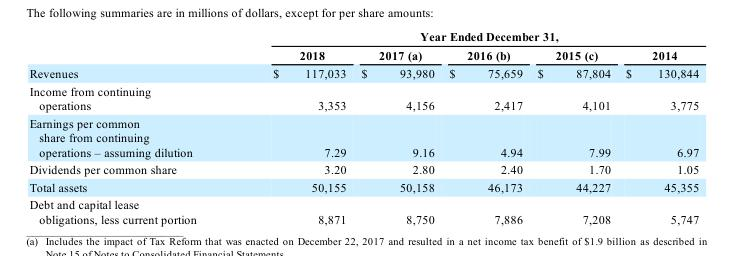table: (28, 29, 698, 225)
table column: (28, 29, 234, 225), (234, 29, 353, 225), (353, 29, 441, 225), (441, 29, 529, 225), (529, 29, 617, 225), (617, 29, 698, 225)
table column header: (28, 29, 698, 63)
table row: (28, 113, 698, 160), (28, 81, 698, 113), (28, 195, 698, 225), (28, 45, 698, 63), (28, 63, 698, 81), (28, 177, 698, 195), (28, 160, 698, 177), (28, 29, 698, 45)
table spanning cell: (234, 29, 698, 45)
